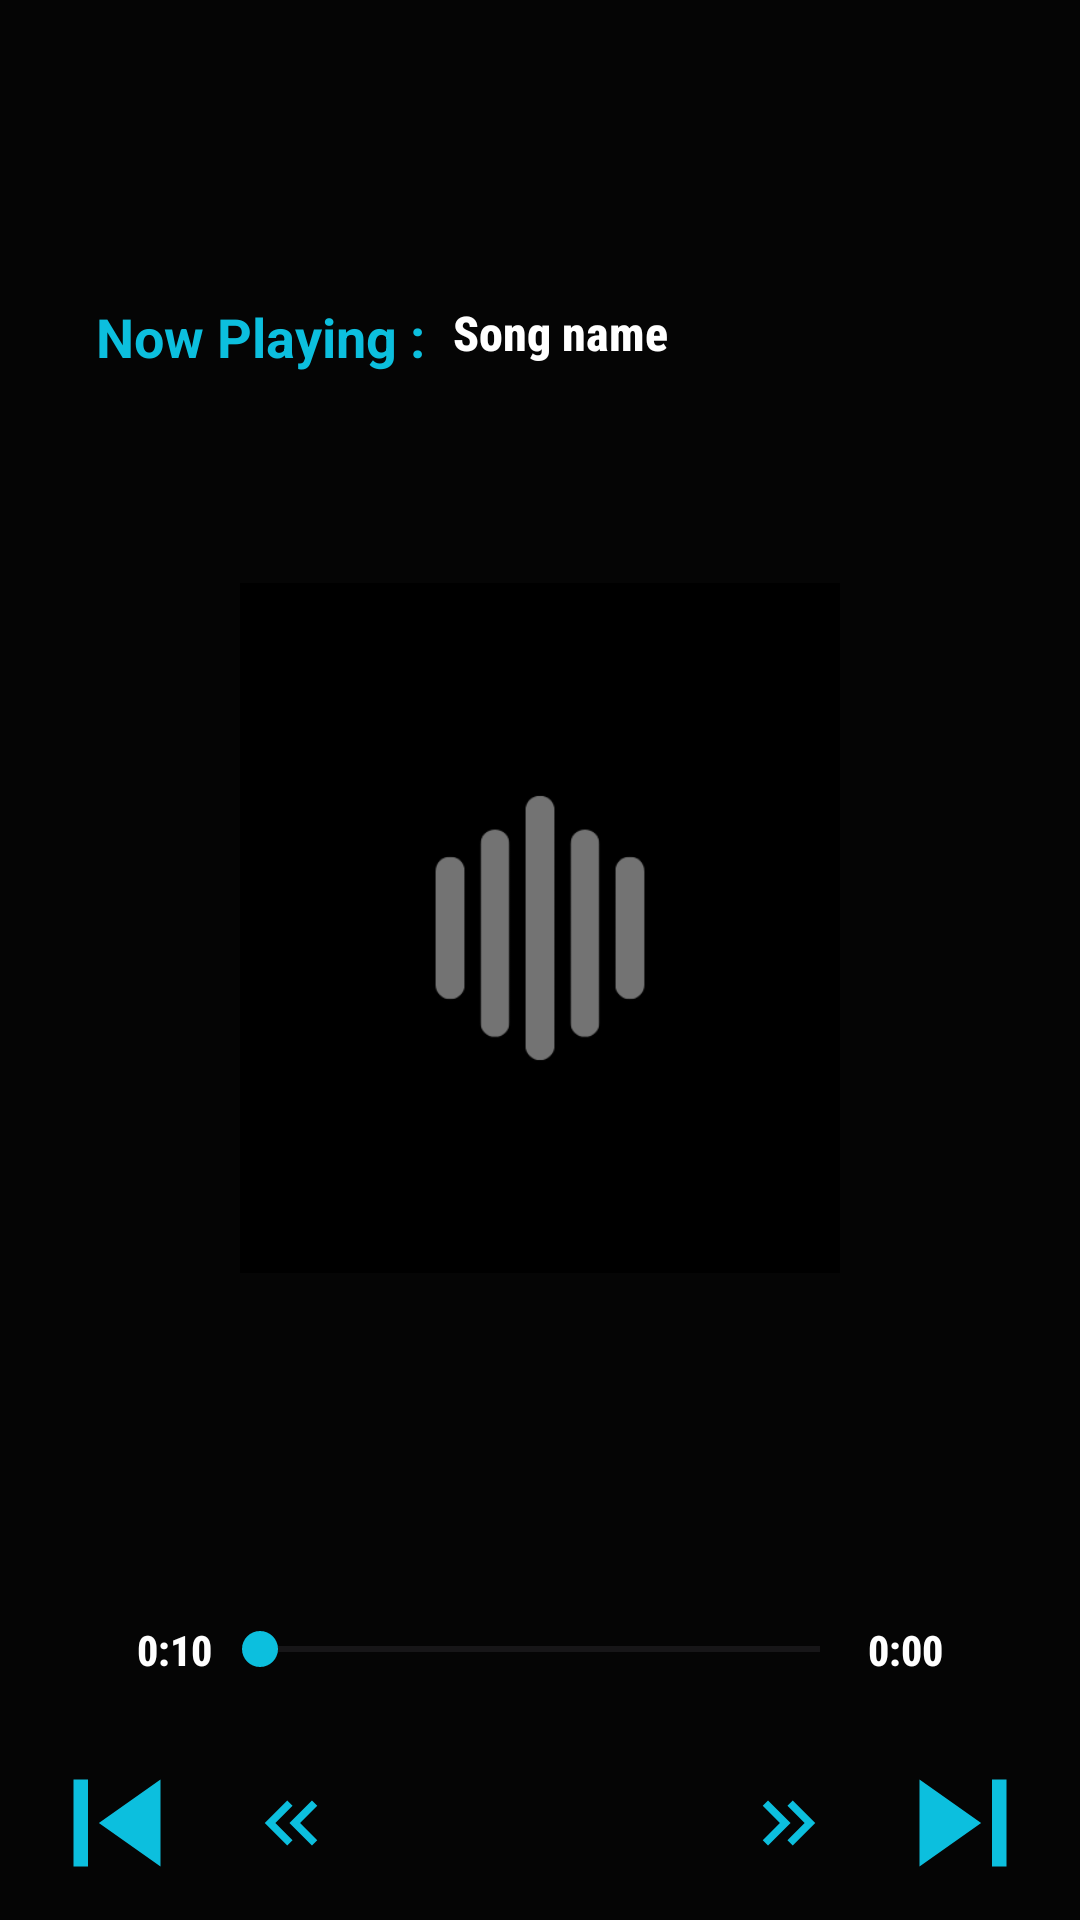

Screen size 1080 x 1920. Icon name, then its center in pixels as [x,y]:
backward: [291,1823]
forward: [789,1823]
